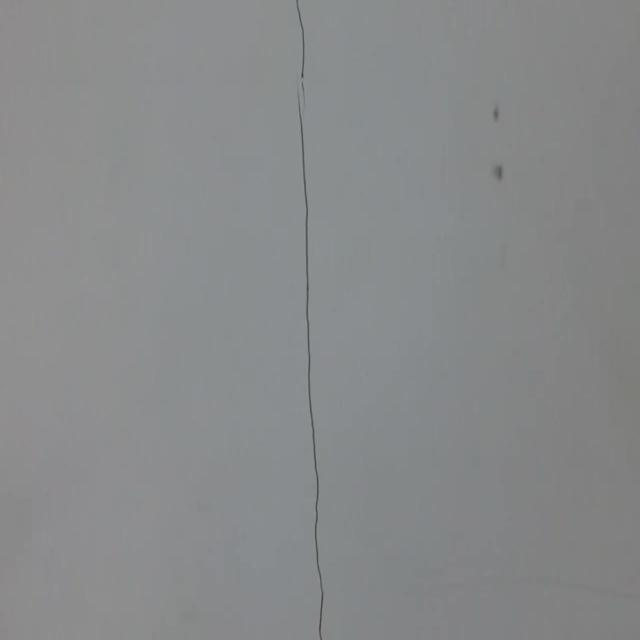Crack: (272, 0, 341, 640)
